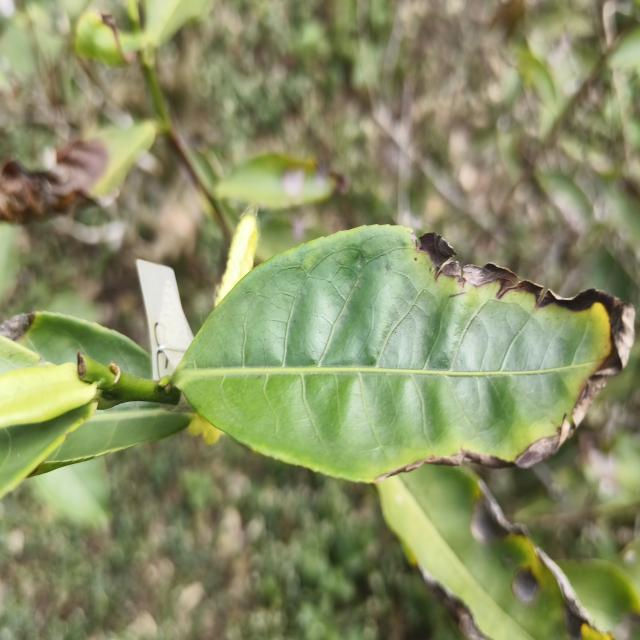Leaf: (172, 226, 634, 482), (379, 466, 591, 640), (0, 120, 156, 223), (214, 154, 345, 209), (559, 559, 640, 632), (74, 10, 145, 66), (536, 171, 591, 233)
